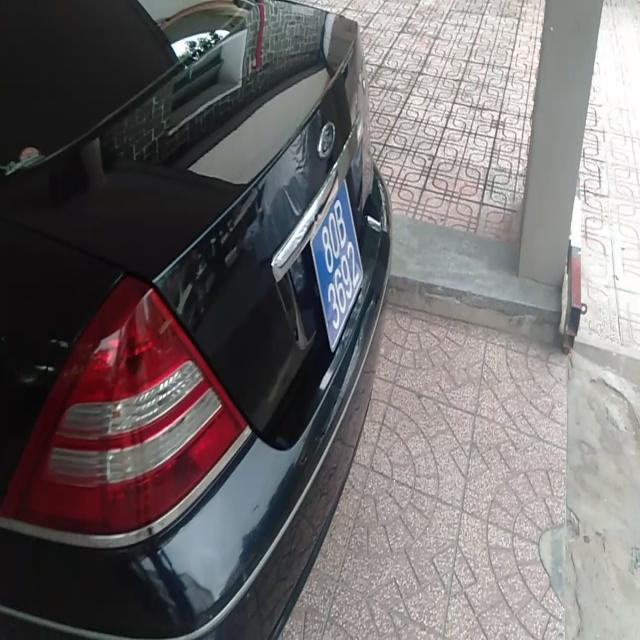bien_xanh: (299, 182, 366, 352)
